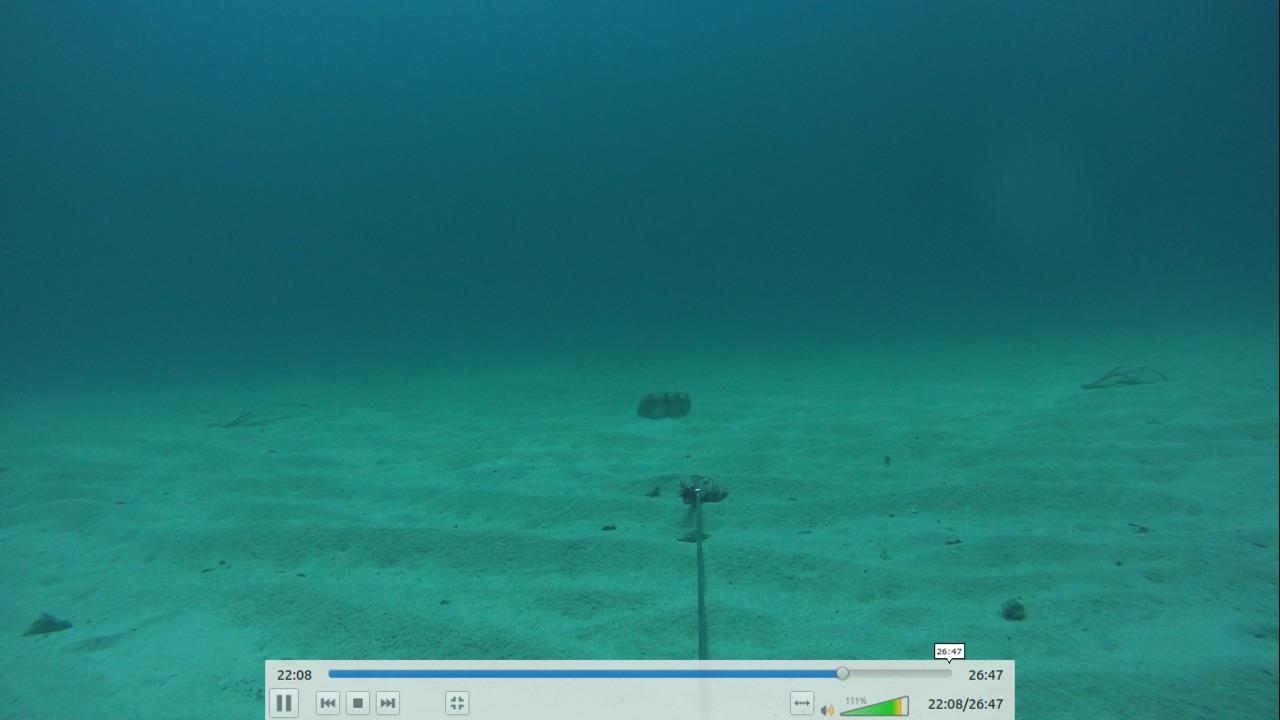raor: (633, 384, 694, 423)
